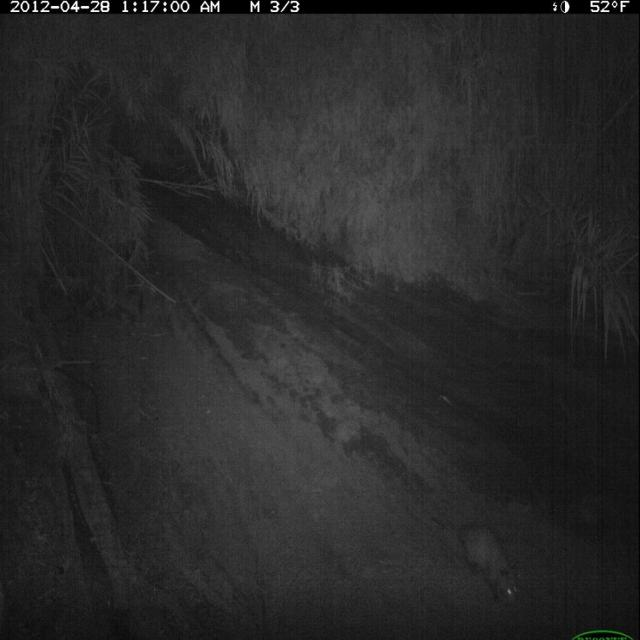opossum: (428, 508, 523, 610)
